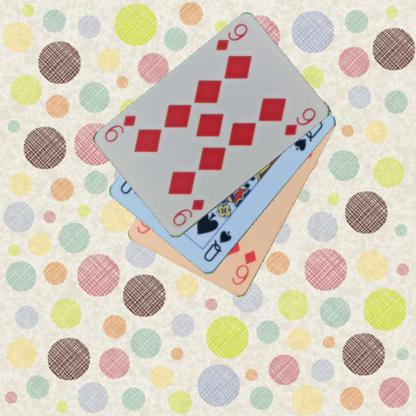6d: (228, 248, 258, 287)
9d: (213, 20, 249, 52), (170, 197, 206, 228)
Qs: (200, 228, 234, 264)
